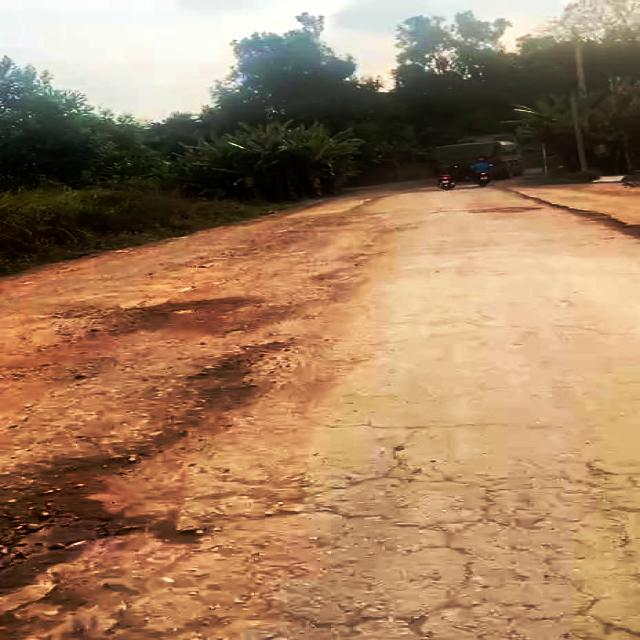pothole: (0, 492, 157, 608)
